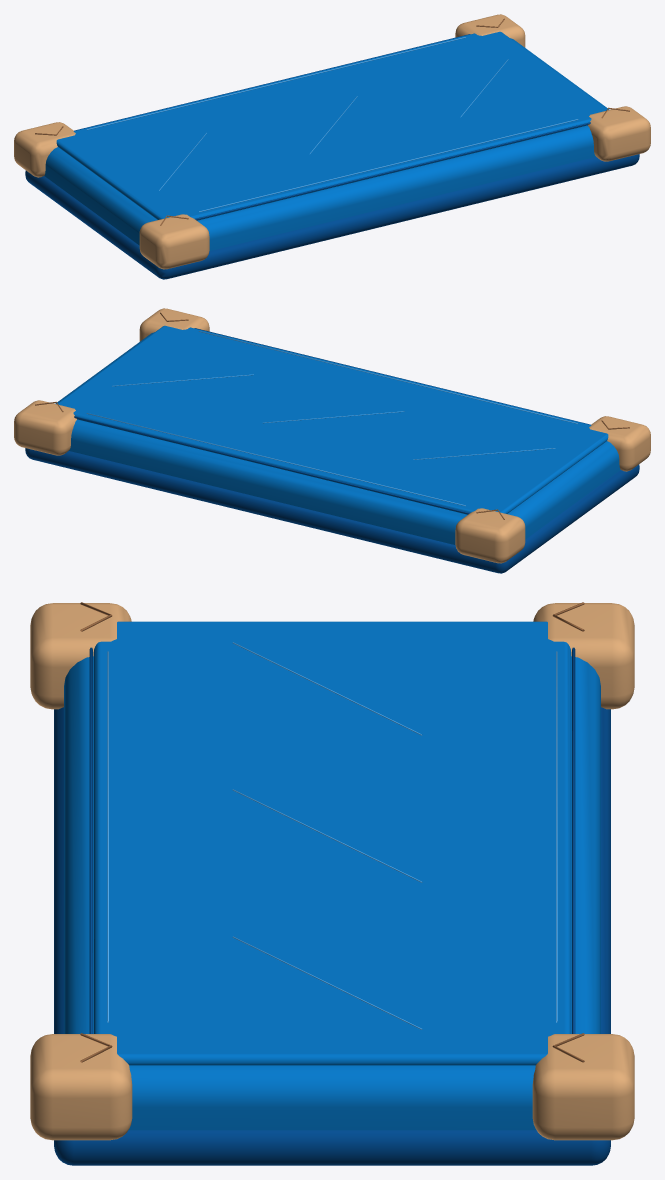
File: niedersprungmatte_3D.glb
The picture shows the model from 3 angles, top to bottom: view 1: azimuth 30°, elevation 25°; view 2: azimuth 150°, elevation 25°; view 3: azimuth 270°, elevation 25°; orthographic projection. The views are drawn at different scales.
Parts seen in each view (by area): view 1: niedersprungmatte_3D__web_deep_blue_landing_mat_vinyl_shell, niedersprungmatte_3D__web_darker_blue_landing_mat_side_seams, niedersprungmatte_3D__web_tan_leather_landing_mat_corner_pro, niedersprungmatte_3D__web_subtle_blue_landing_mat_vinyl_high; view 2: niedersprungmatte_3D__web_deep_blue_landing_mat_vinyl_shell, niedersprungmatte_3D__web_darker_blue_landing_mat_side_seams, niedersprungmatte_3D__web_tan_leather_landing_mat_corner_pro, niedersprungmatte_3D__web_subtle_blue_landing_mat_vinyl_high; view 3: niedersprungmatte_3D__web_deep_blue_landing_mat_vinyl_shell, niedersprungmatte_3D__web_tan_leather_landing_mat_corner_pro, niedersprungmatte_3D__web_darker_blue_landing_mat_side_seams, niedersprungmatte_3D__web_subtle_blue_landing_mat_vinyl_high, niedersprungmatte_3D__web_brown_stitched_landing_mat_corner_.
Boxes of the visible parts, <box> form: niedersprungmatte_3D__web_deep_blue_landing_mat_vinyl_shell: <box>44,31,609,250</box>; niedersprungmatte_3D__web_darker_blue_landing_mat_side_seams: <box>25,34,639,279</box>; niedersprungmatte_3D__web_tan_leather_landing_mat_corner_pro: <box>14,14,650,269</box>; niedersprungmatte_3D__web_subtle_blue_landing_mat_vinyl_high: <box>86,37,578,212</box>; niedersprungmatte_3D__web_deep_blue_landing_mat_vinyl_shell: <box>55,325,620,544</box>; niedersprungmatte_3D__web_darker_blue_landing_mat_side_seams: <box>25,328,639,573</box>; niedersprungmatte_3D__web_tan_leather_landing_mat_corner_pro: <box>14,308,650,563</box>; niedersprungmatte_3D__web_subtle_blue_landing_mat_vinyl_high: <box>86,331,578,506</box>; niedersprungmatte_3D__web_deep_blue_landing_mat_vinyl_shell: <box>64,621,600,1130</box>; niedersprungmatte_3D__web_tan_leather_landing_mat_corner_pro: <box>30,603,634,1140</box>; niedersprungmatte_3D__web_darker_blue_landing_mat_side_seams: <box>54,647,610,1165</box>; niedersprungmatte_3D__web_subtle_blue_landing_mat_vinyl_high: <box>107,642,557,1029</box>; niedersprungmatte_3D__web_brown_stitched_landing_mat_corner_: <box>80,602,584,1062</box>.
Size of the model in its own units: 2.3 by 0.2473 by 1.22.
